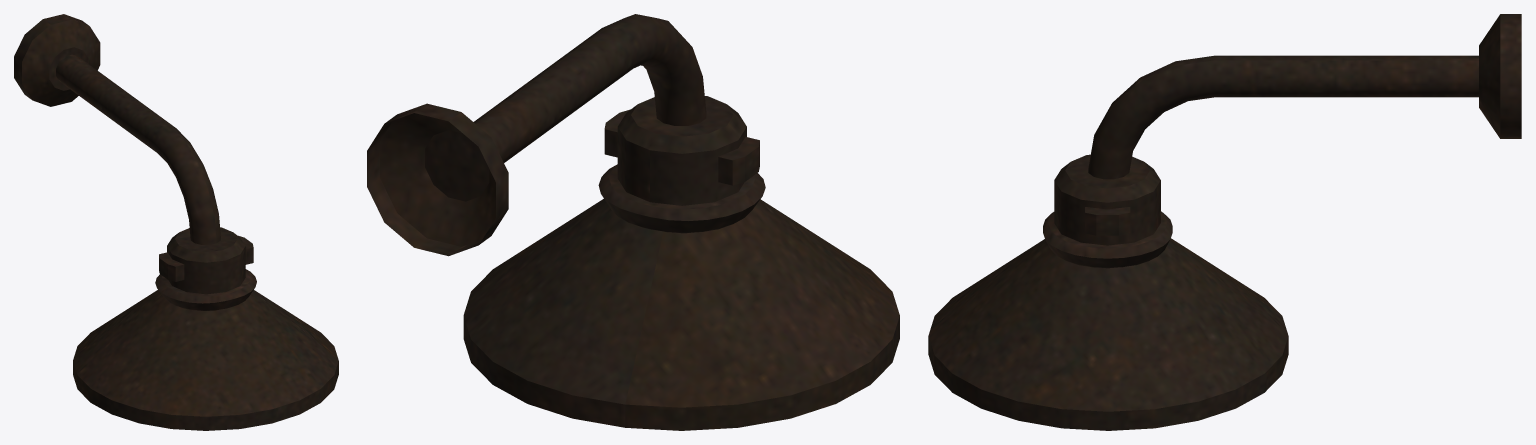
Rendered from lamp_mx_4_off.obj.
3 views of the same model, side by side, from view 1: azimuth 30°, elevation 25°; view 2: azimuth 150°, elevation 25°; view 3: azimuth 270°, elevation 25° (orthographic). The views are drawn at different scales.
Parts seen in each view (by area): view 1: lamp_mx_4_off; view 2: lamp_mx_4_off; view 3: lamp_mx_4_off.
Boxes of the visible parts, bbox=[...] form: lamp_mx_4_off: bbox=[14, 14, 338, 430]; lamp_mx_4_off: bbox=[367, 14, 899, 430]; lamp_mx_4_off: bbox=[928, 14, 1521, 430].
Size of the model in its own units: 0.51 by 0.5559 by 0.84.
